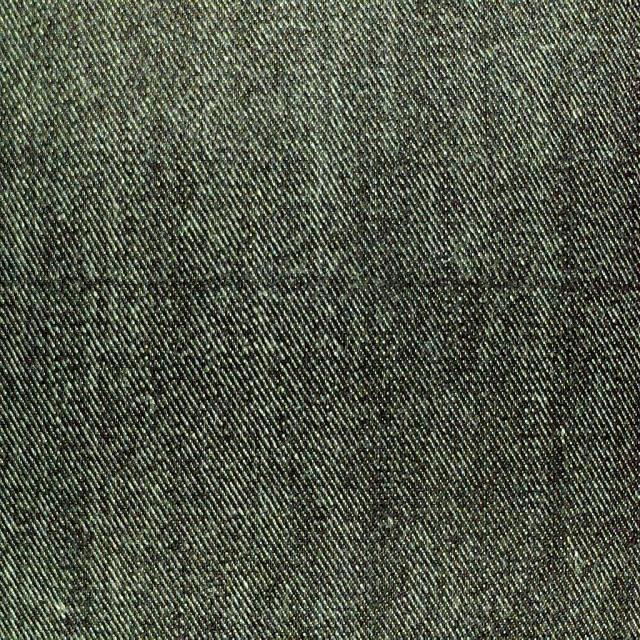Line: (0, 273, 638, 298)
